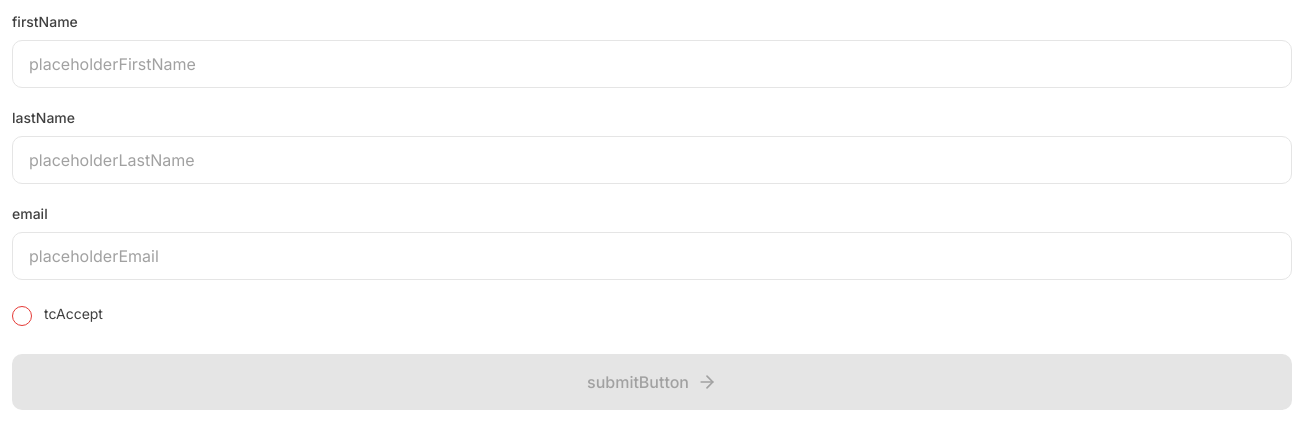
it: SimpleForm — T&C checkbox / submit button integration › submit button enables immediately after filling all fields and ticking checkbox once
Type "Alice" into the field labelled "firstName". click: (652, 64)
box: [12, 40, 1292, 88]
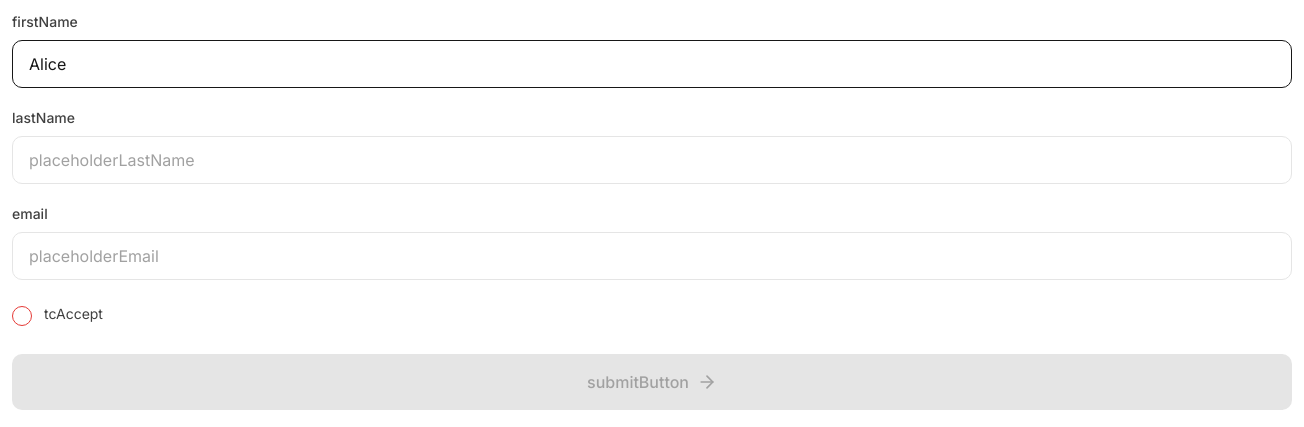
Type "Dupont" into the field labelled "lastName". click: (652, 160)
box: [12, 136, 1292, 184]
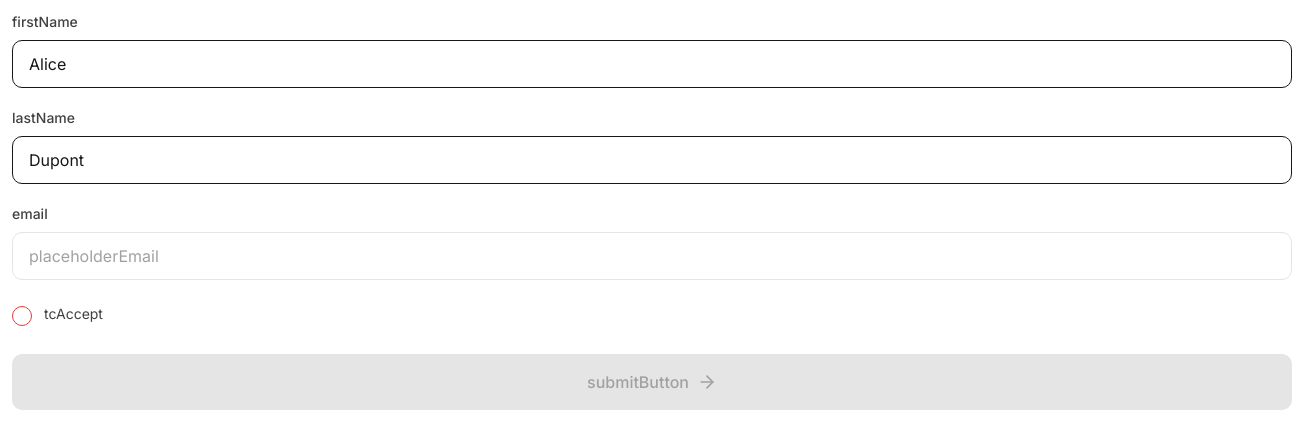
Type "alice@example.com" into the field labelled "email". click: (652, 256)
box: [12, 232, 1292, 280]
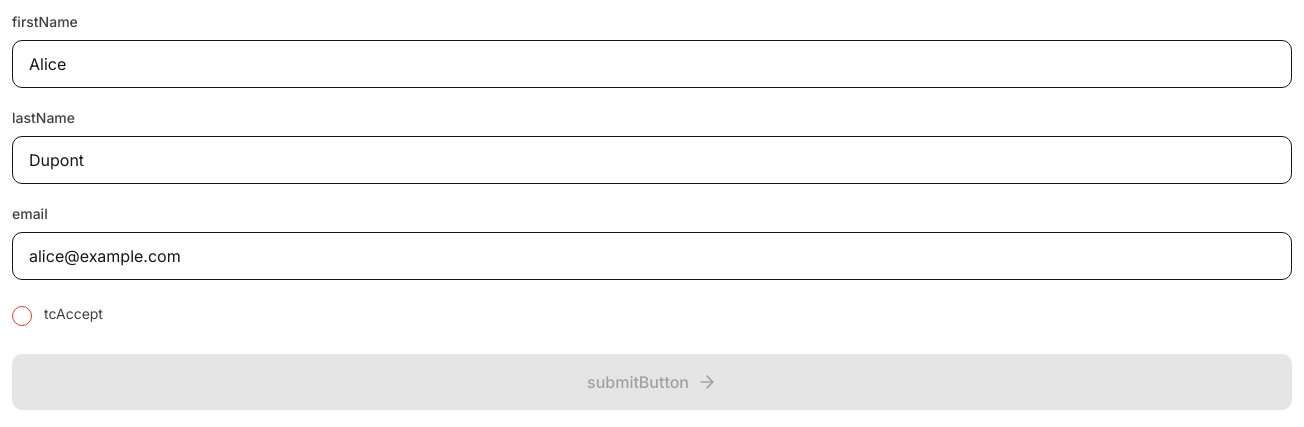
Click the checkbox. click: click(22, 316)
box: [12, 306, 32, 326]
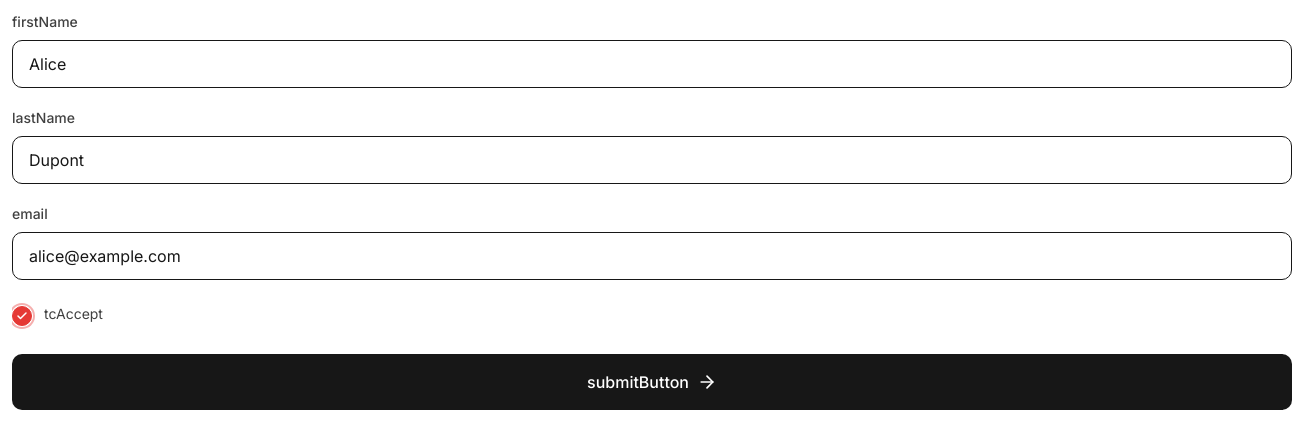
expect the button "submitButton" is enabled: met, box [12, 354, 1292, 410]
